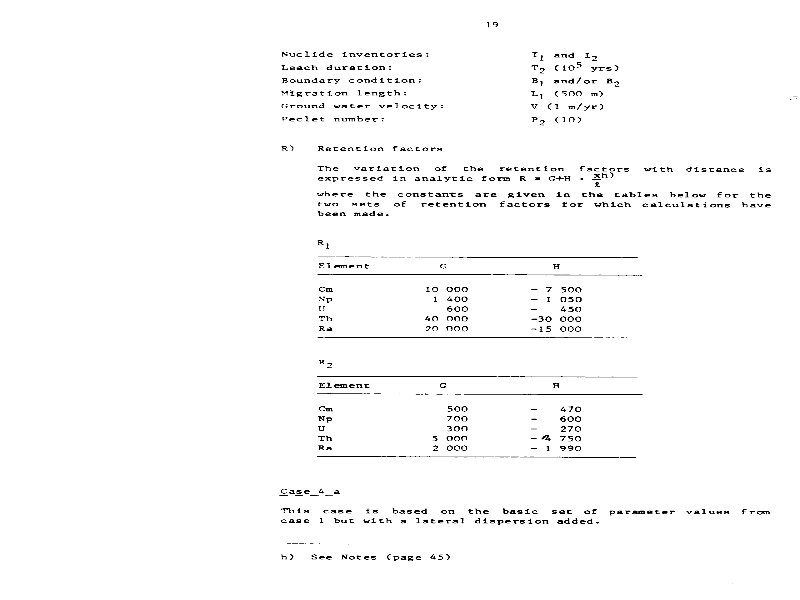table: (312, 356, 656, 480), (312, 229, 652, 348)
